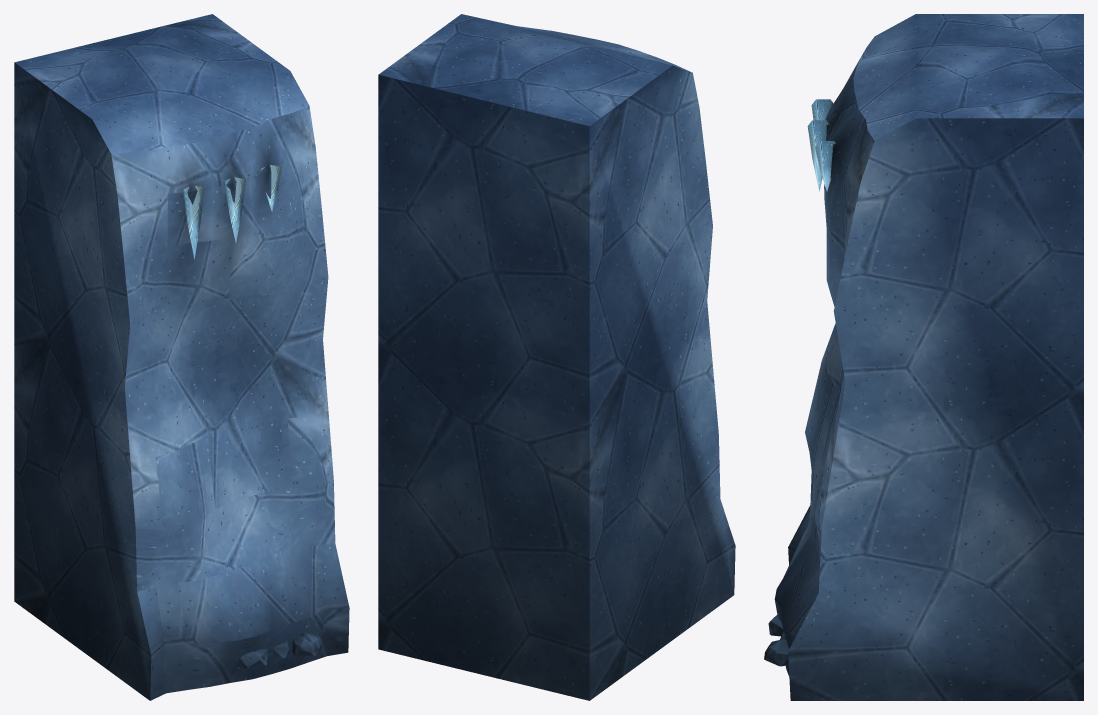
The model's file is cave_wall_ice.glb.
3 views of the same model, side by side, from view 1: azimuth 30°, elevation 25°; view 2: azimuth 150°, elevation 25°; view 3: azimuth 270°, elevation 25° (orthographic). The views are drawn at different scales.
Parts seen in each view (by area): view 1: cave_wall_ice; view 2: cave_wall_ice; view 3: cave_wall_ice.
Part boxes in pixels (box(x1,y1,x2,y2)): cave_wall_ice: box(14, 14, 349, 700); cave_wall_ice: box(378, 14, 735, 700); cave_wall_ice: box(764, 14, 1083, 700).
Bounding box in the file's own units: 1 × 2.66 × 1.29.
2 materials, 2 textured.
